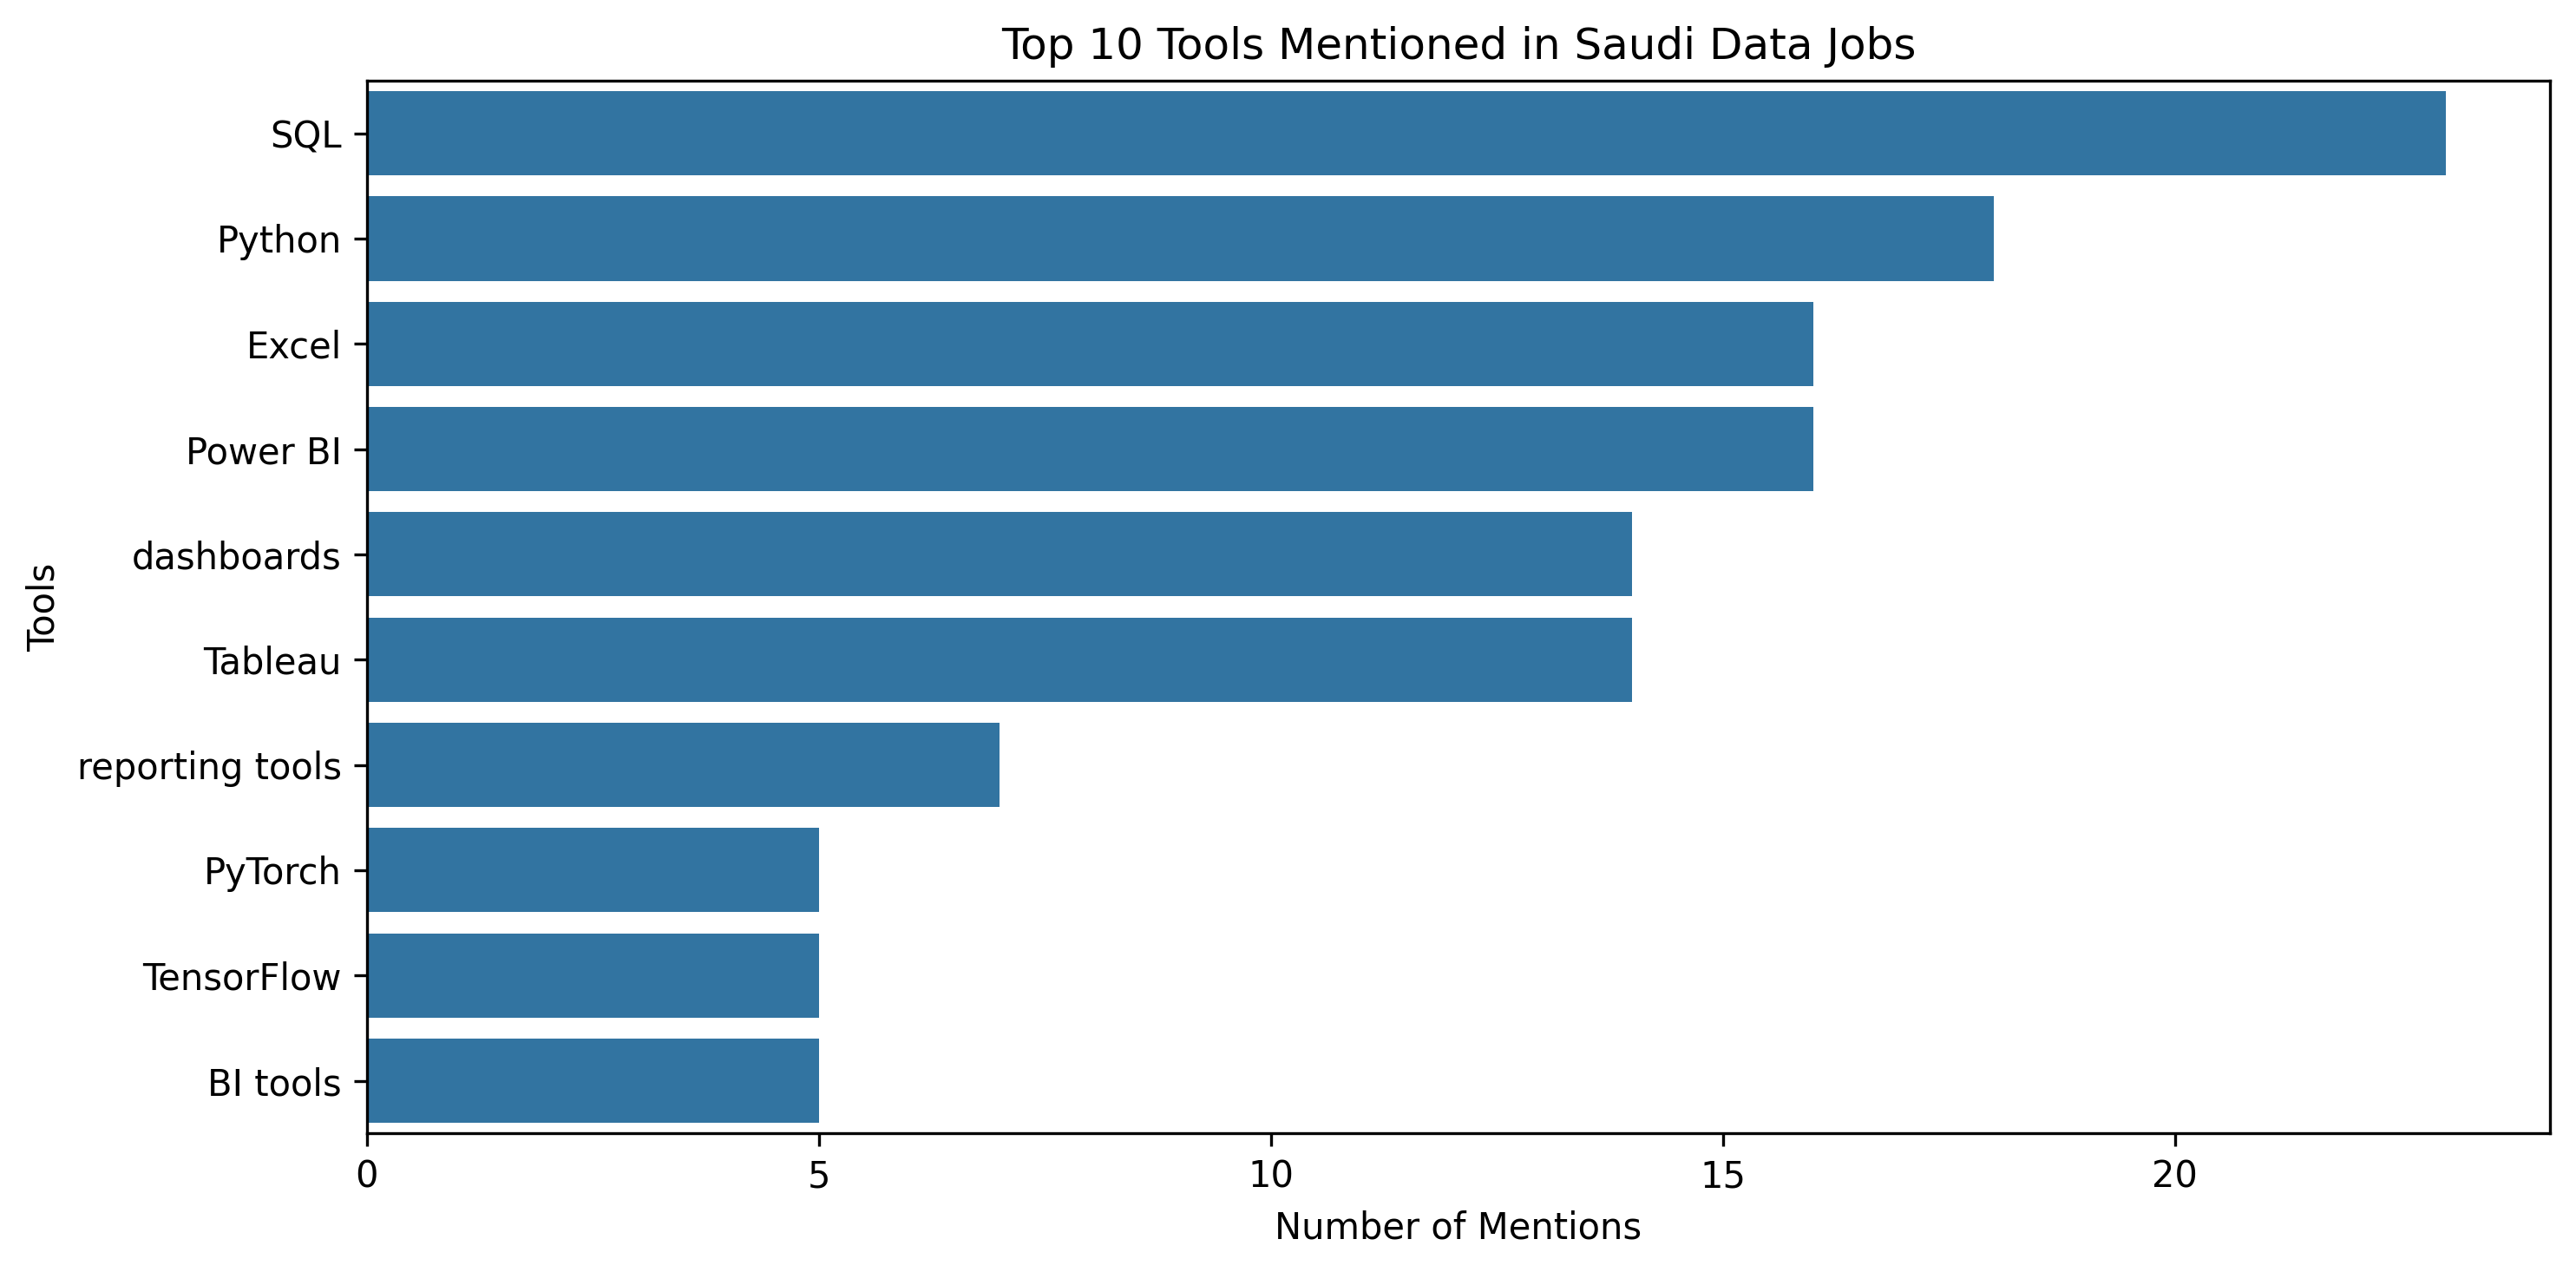

This screenshot's page, from the dashboard's own definition file:
{"tool":"powerbi","page":{"name":"الصفحة 2","canvas":[1280,720],"ordinal":1},"visuals":[{"type":"clusteredColumnChart","fields":{"Category":["saudi_data_jobs_powerbi.tools"],"Y":["CountNonNull(saudi_data_jobs_powerbi.job_id)"]},"box":[0,0,1270.6,722.1],"z":0}]}

Visuals, with their boxes on the page's 1280x720 design canvas (x1, y1, x2, y2). These are canvas units, not pixel positions in the 2576x1272 screenshot, which may show the page scaled, cropped or inside an application window:
clusteredColumnChart - saudi_data_jobs_powerbi.tools x CountNonNull(saudi_data_jobs_powerbi.job_id): select_region(0, 0, 1271, 722)
